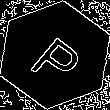P_NE: (23, 24, 87, 86)
